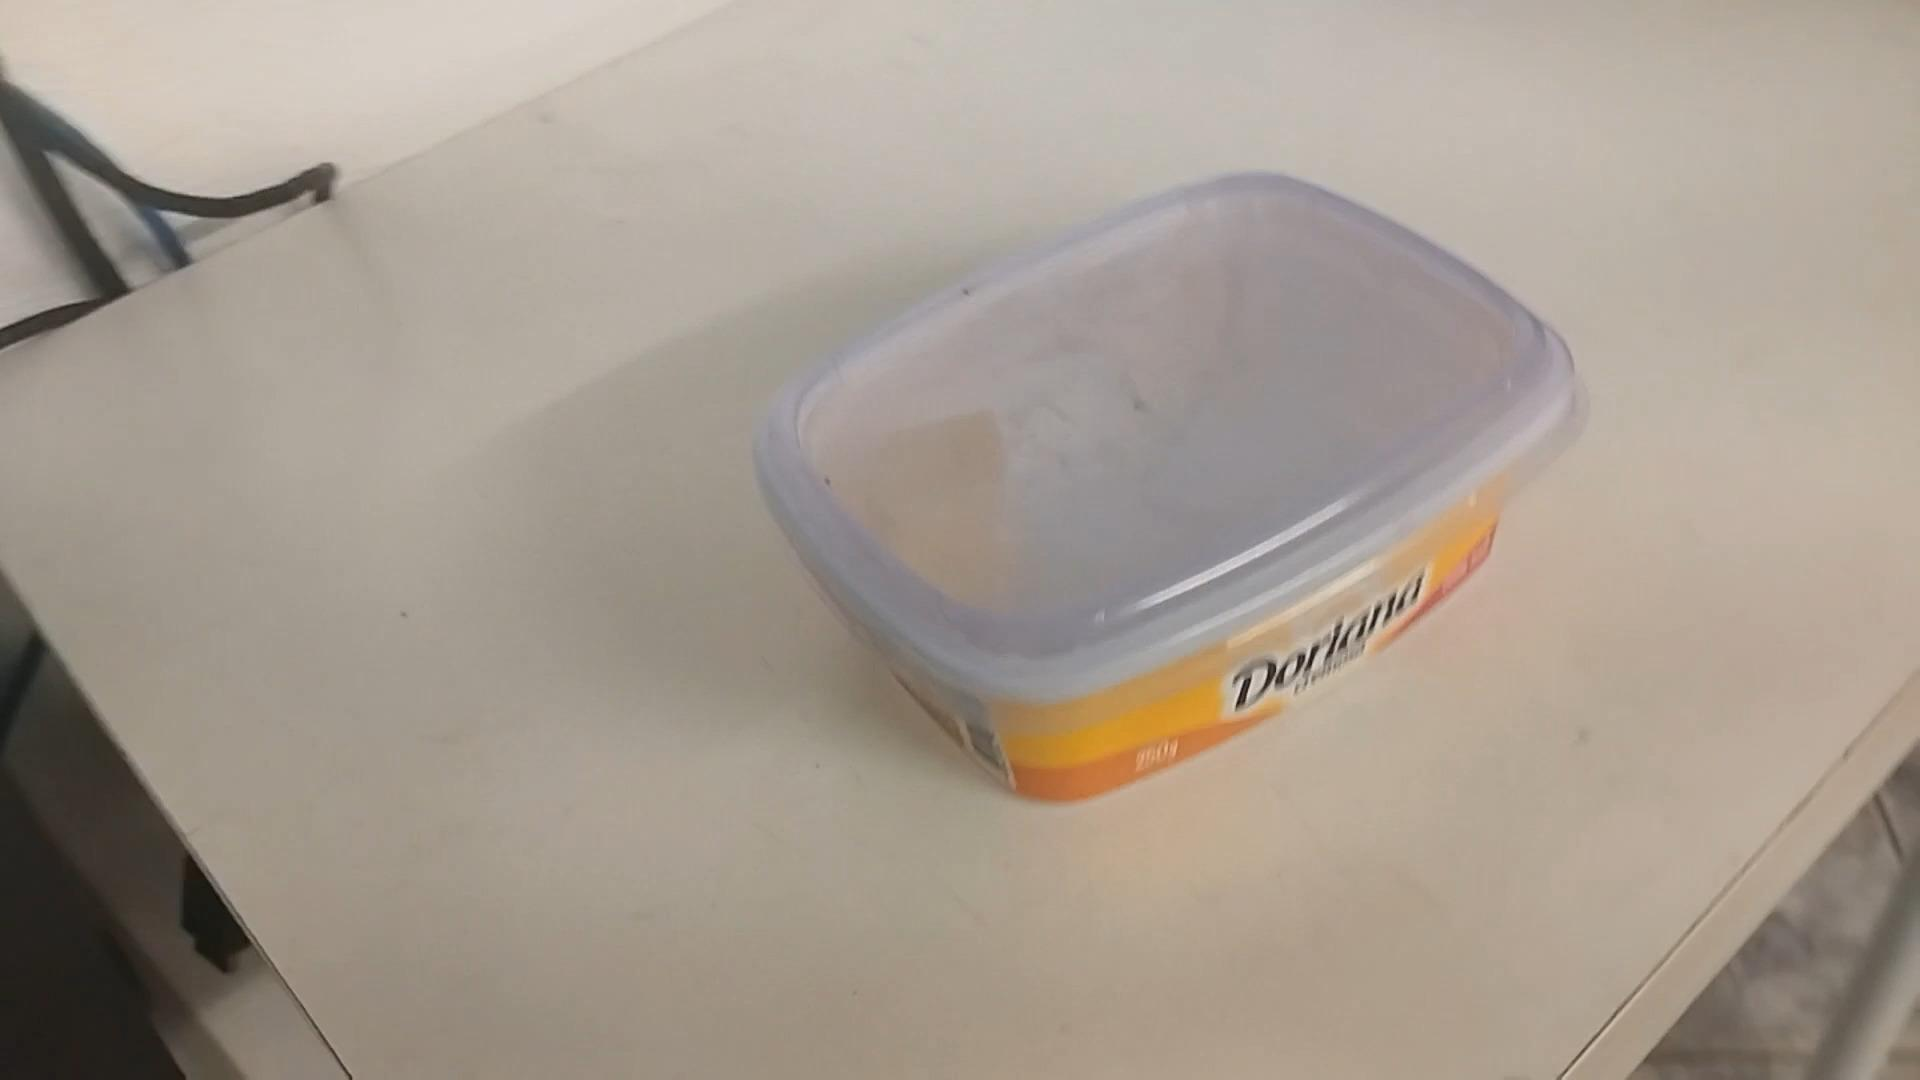butter: (754, 175, 1581, 806)
